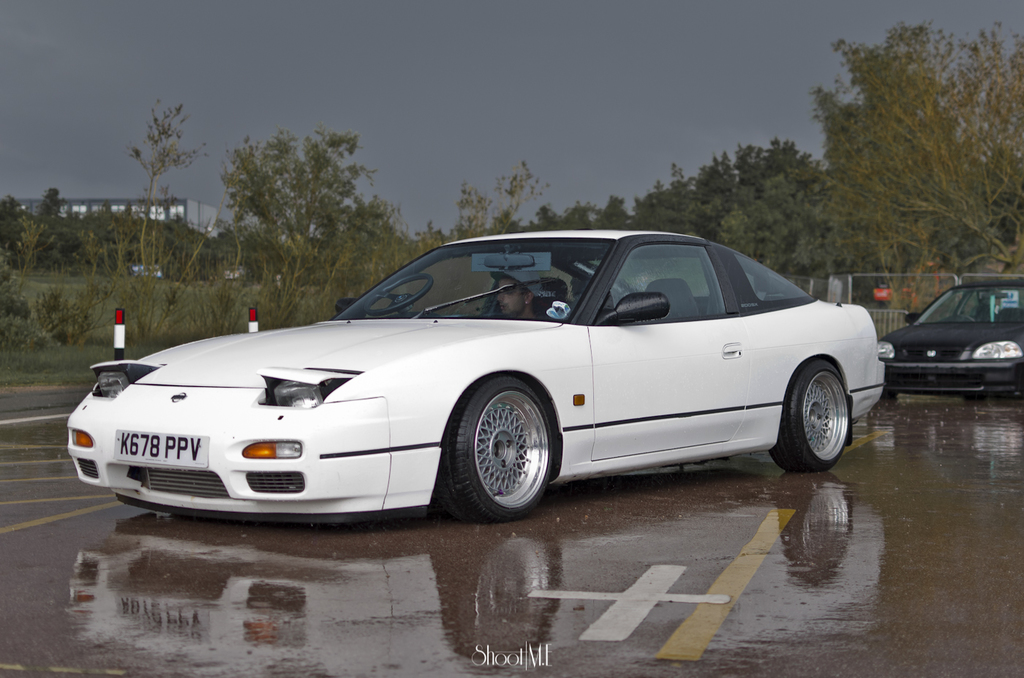Car: (62, 223, 895, 528), (882, 273, 1021, 403)
